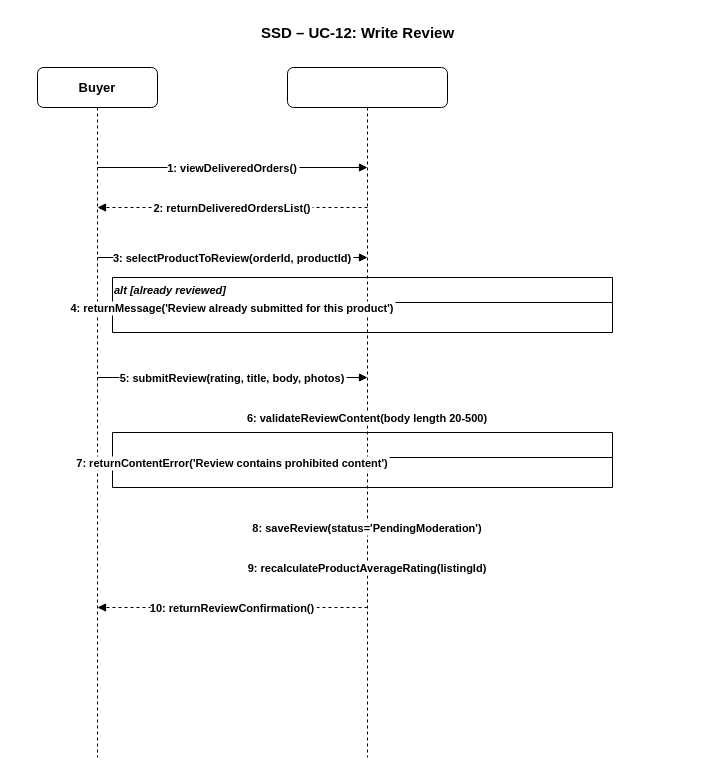
Some shapes in this 714 by 776 pixel diagram are drawn without their labels. Each missing label, with the centre of its shape:
alt [inappropriate content / profanity]: [362,460]
SmartTech System: [367,87]
